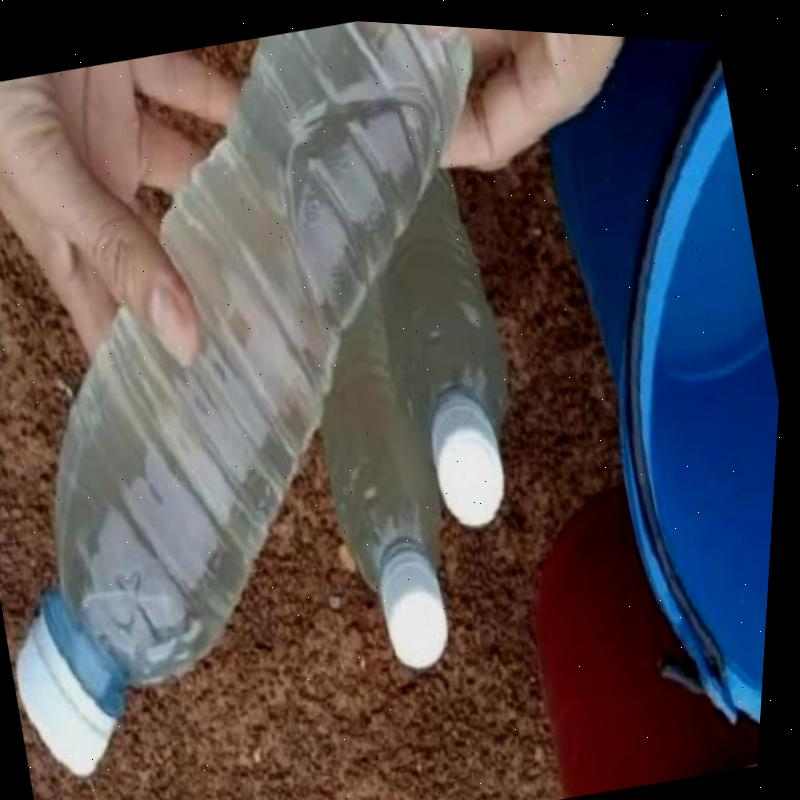botella: (0, 0, 620, 800), (282, 252, 490, 675), (345, 150, 552, 535)
